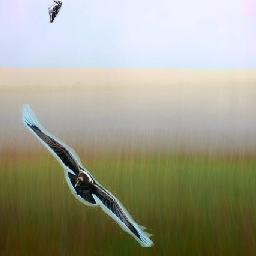Crow: (20, 105, 155, 248)
Woodpecker: (48, 0, 62, 23)
